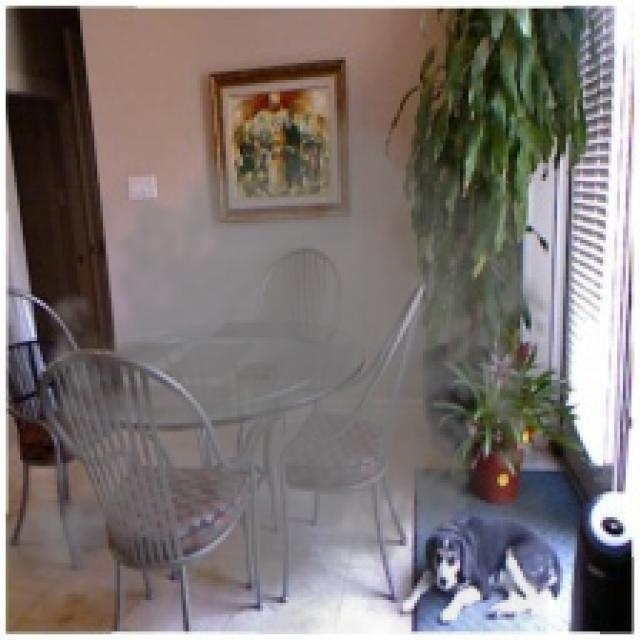smoke: (11, 80, 560, 634)
